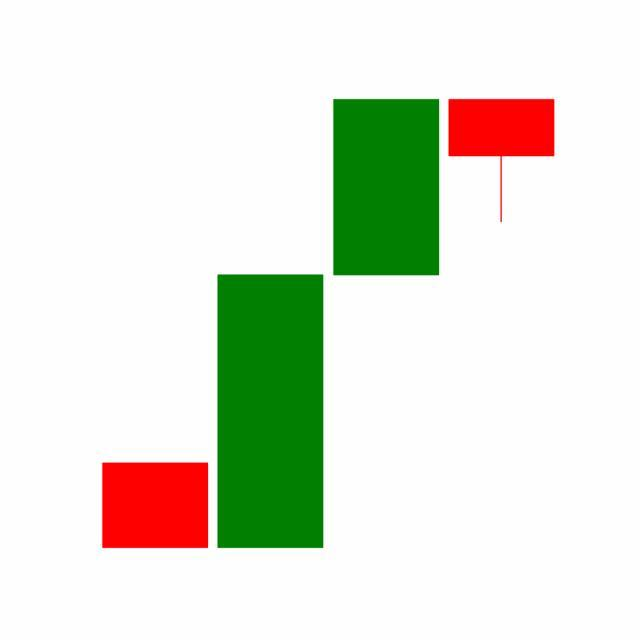Hammer: (444, 98, 560, 225)
